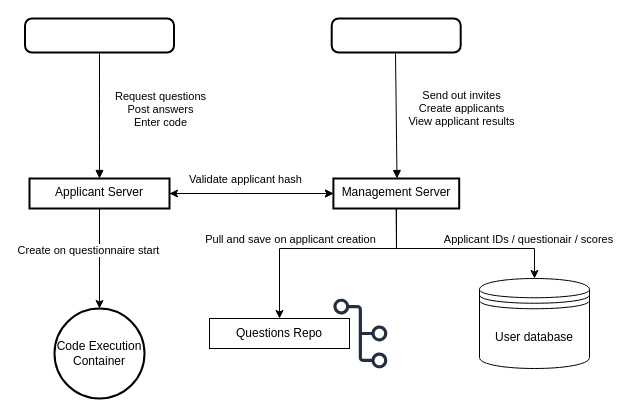
The diagram is 631 pixels wide and 416 high, and some of its shapes have lost their labels. Each missing label, with the centre of its shape:
Admin Frontend: the point at 395,35
Applicant Frontend: the point at 99,35
